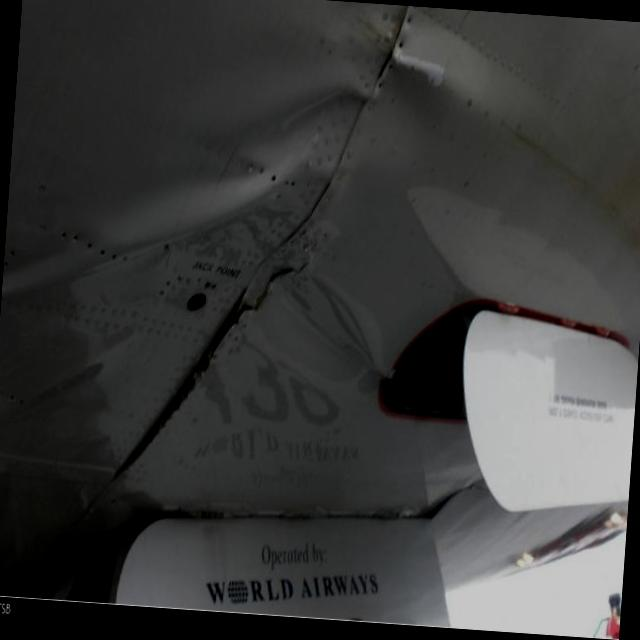crack: (236, 255, 310, 331)
dent: (1, 70, 364, 316)
